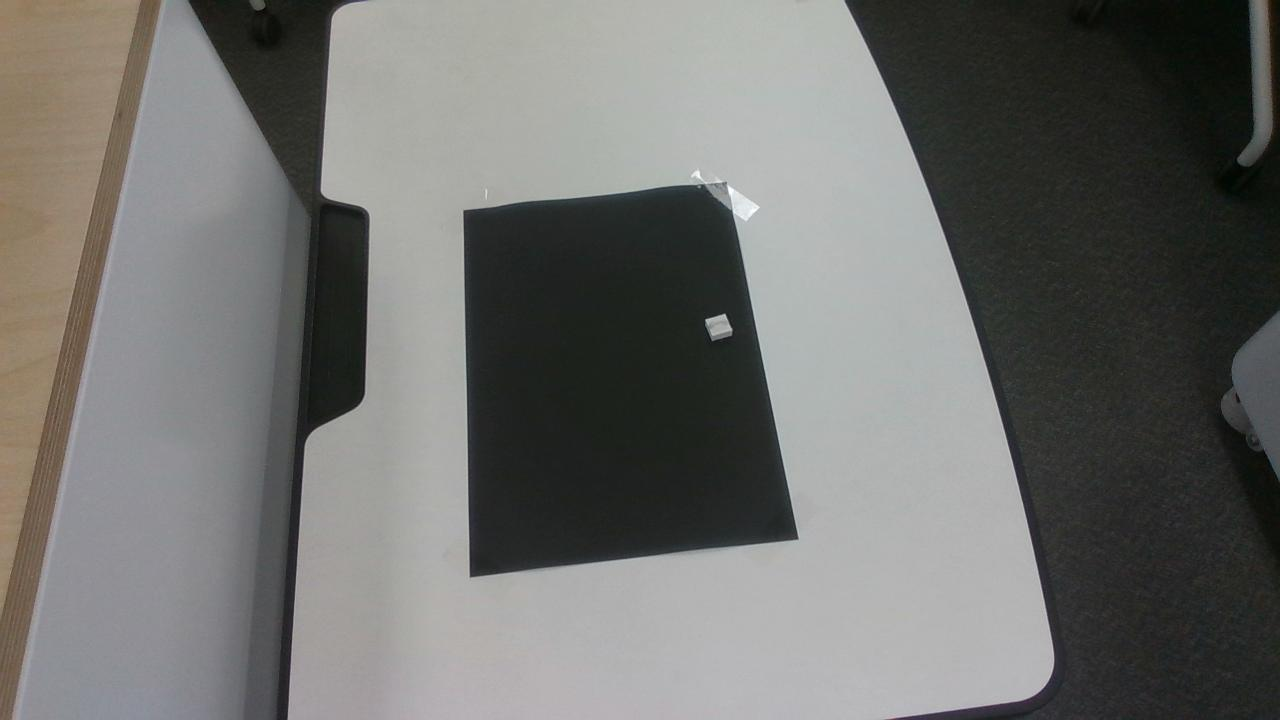cube: (706, 314, 732, 341)
